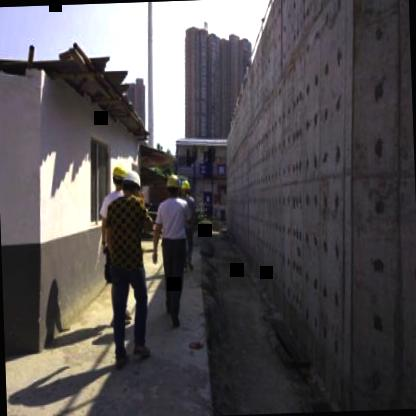helmet: (121, 170, 142, 206), (110, 162, 126, 196), (164, 167, 180, 200), (178, 180, 192, 204)
